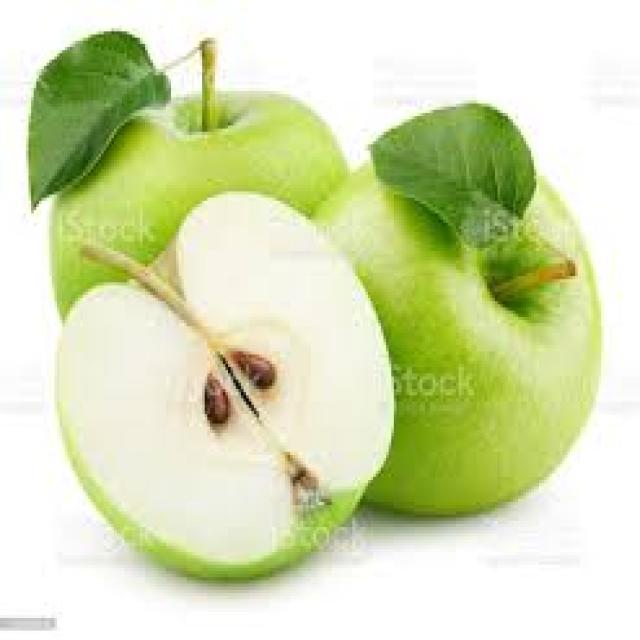apple: (313, 117, 612, 530)
